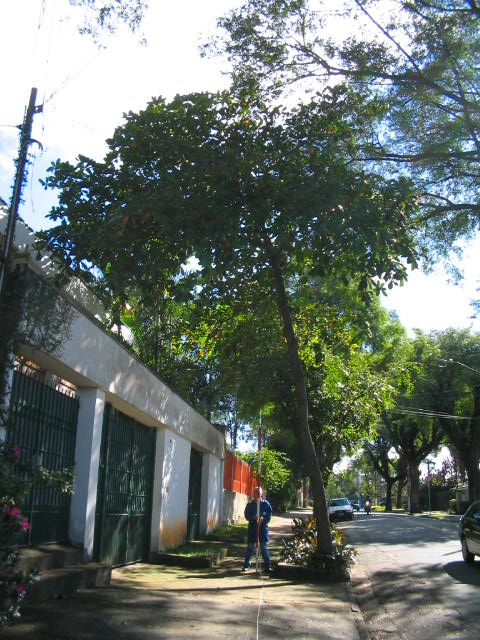crown: (37, 83, 422, 331)
stem: (275, 280, 346, 572)
stick: (250, 409, 266, 575)
tree: (33, 80, 424, 573)
